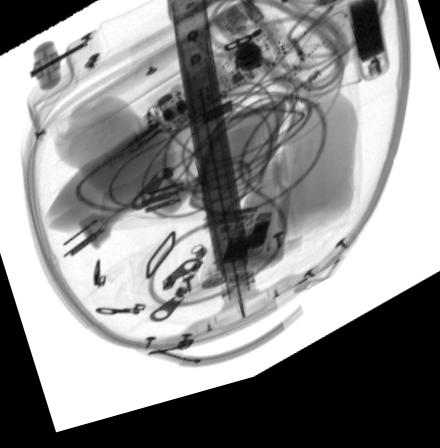Powerbank: (346, 11, 388, 102)
